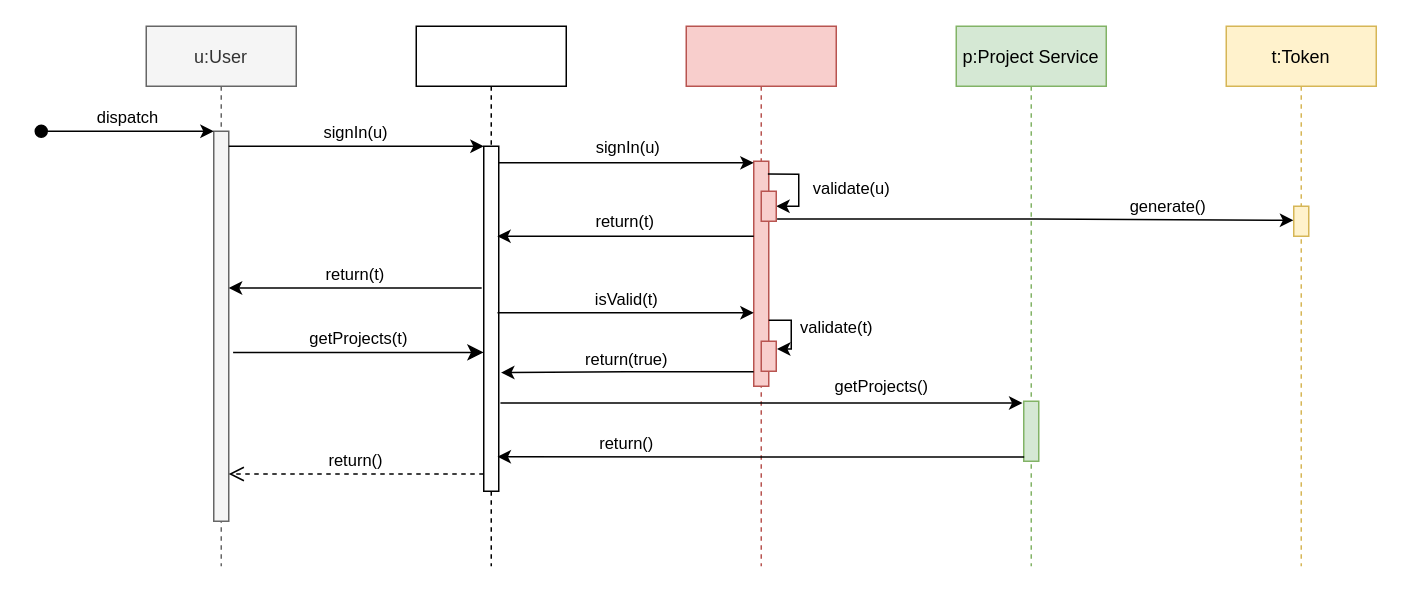
The diagram is 1403 pixels wide and 593 high, and some of its shapes have lost their labels. Each missing label, with the box of its shape:
a:API Gateway: (415, 25, 566, 566)
u:User Service: (685, 25, 836, 566)
